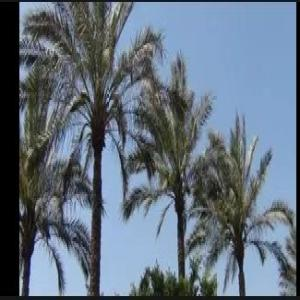palm tree: (22, 0, 164, 294), (123, 49, 213, 284), (188, 110, 296, 294)
